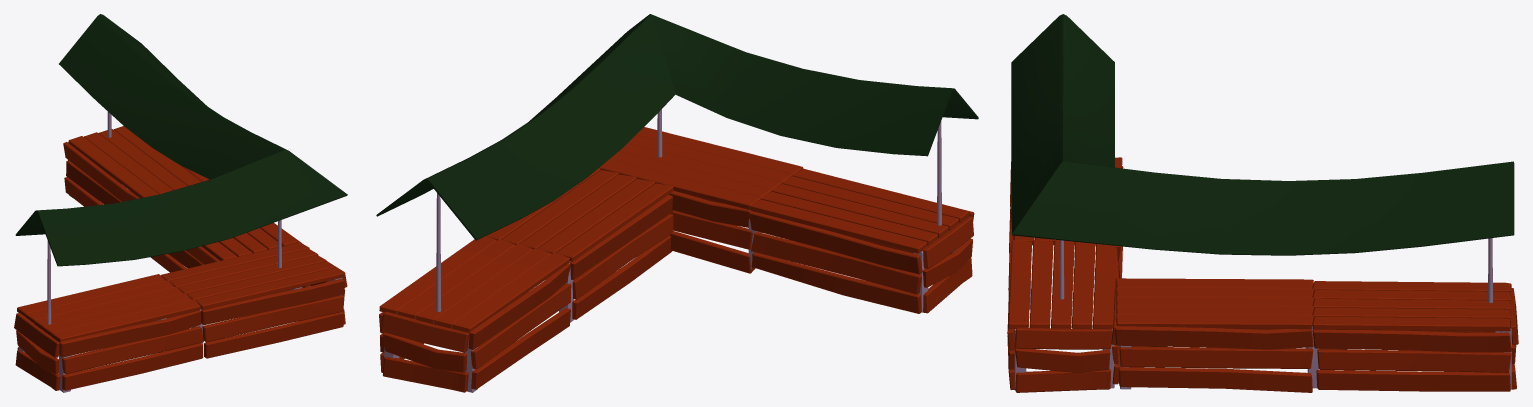
File: Cuissine01_01.fbx
3 renders of one model, left to right at view 1: azimuth 30°, elevation 25°; view 2: azimuth 150°, elevation 25°; view 3: azimuth 270°, elevation 25°, orthographic. The views are drawn at different scales.
Parts seen in each view (by area): view 1: Cuissine01_01; view 2: Cuissine01_01; view 3: Cuissine01_01.
Boxes of the visible parts, x1=… form: Cuissine01_01: x1=14, y1=14, x2=347, y2=392; Cuissine01_01: x1=376, y1=14, x2=978, y2=392; Cuissine01_01: x1=1007, y1=14, x2=1518, y2=392.
Size of the model in its own units: 538 by 304 by 669.
